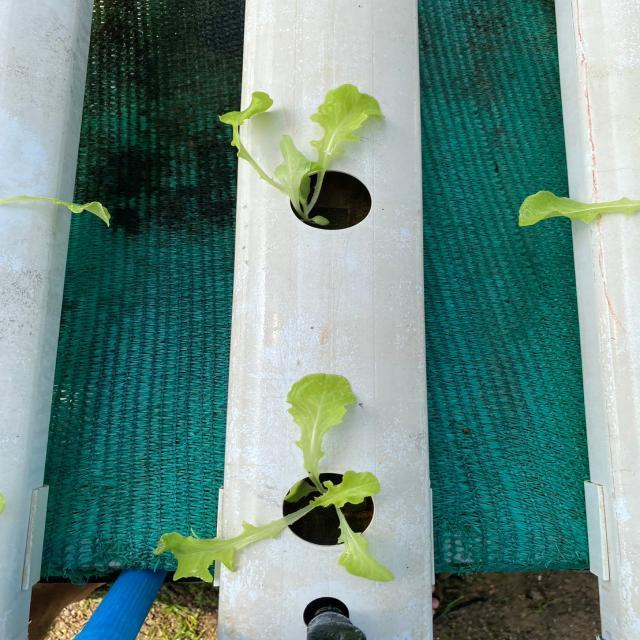Lettuce-Not-Ready-to-Harvest: (155, 374, 394, 581), (220, 84, 382, 226), (519, 191, 640, 226), (0, 195, 111, 226)
